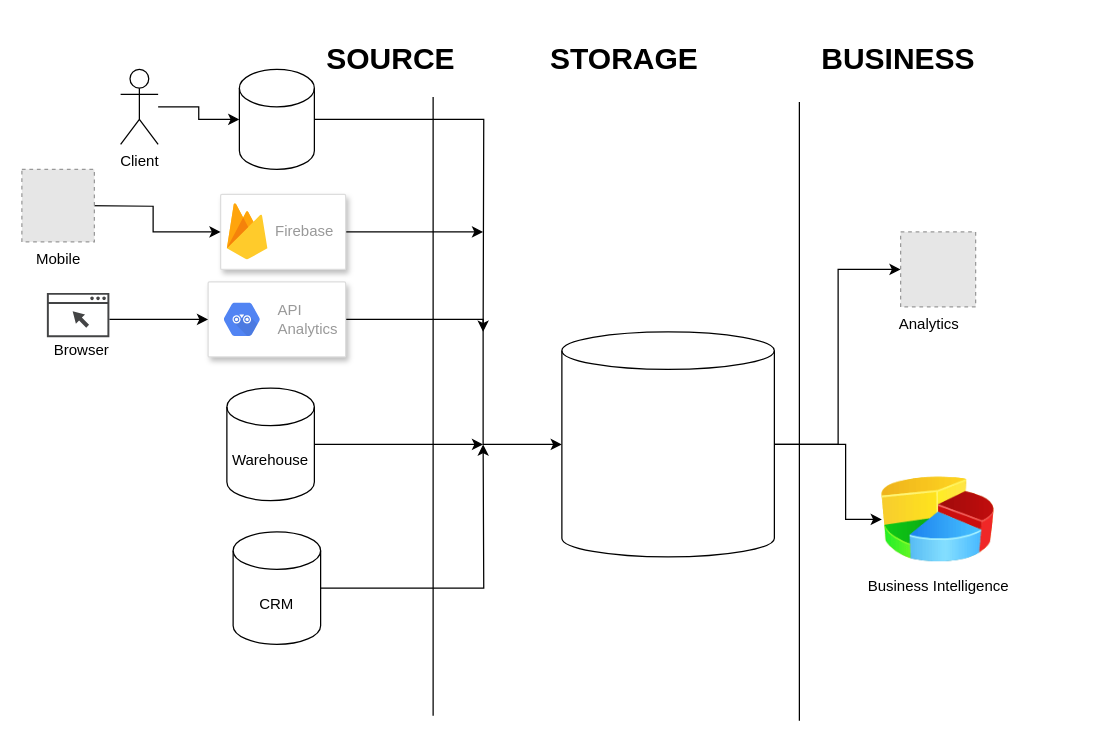
The diagram is 1094 pixels wide and 744 high, and some of its shapes have lost their labels. Grey dashed boxes stand in for pictures. Here are the shapes that lost their labels. From the top down, the centre of each, then its label:
At point 276,118: "Sales".
At point 667,444: "Data Warehouse".
